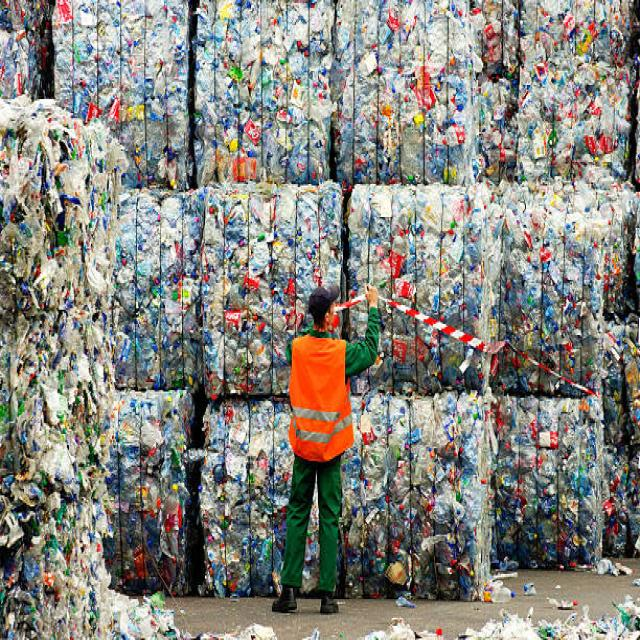trash: (8, 5, 637, 278), (16, 302, 277, 626), (444, 386, 626, 546)
